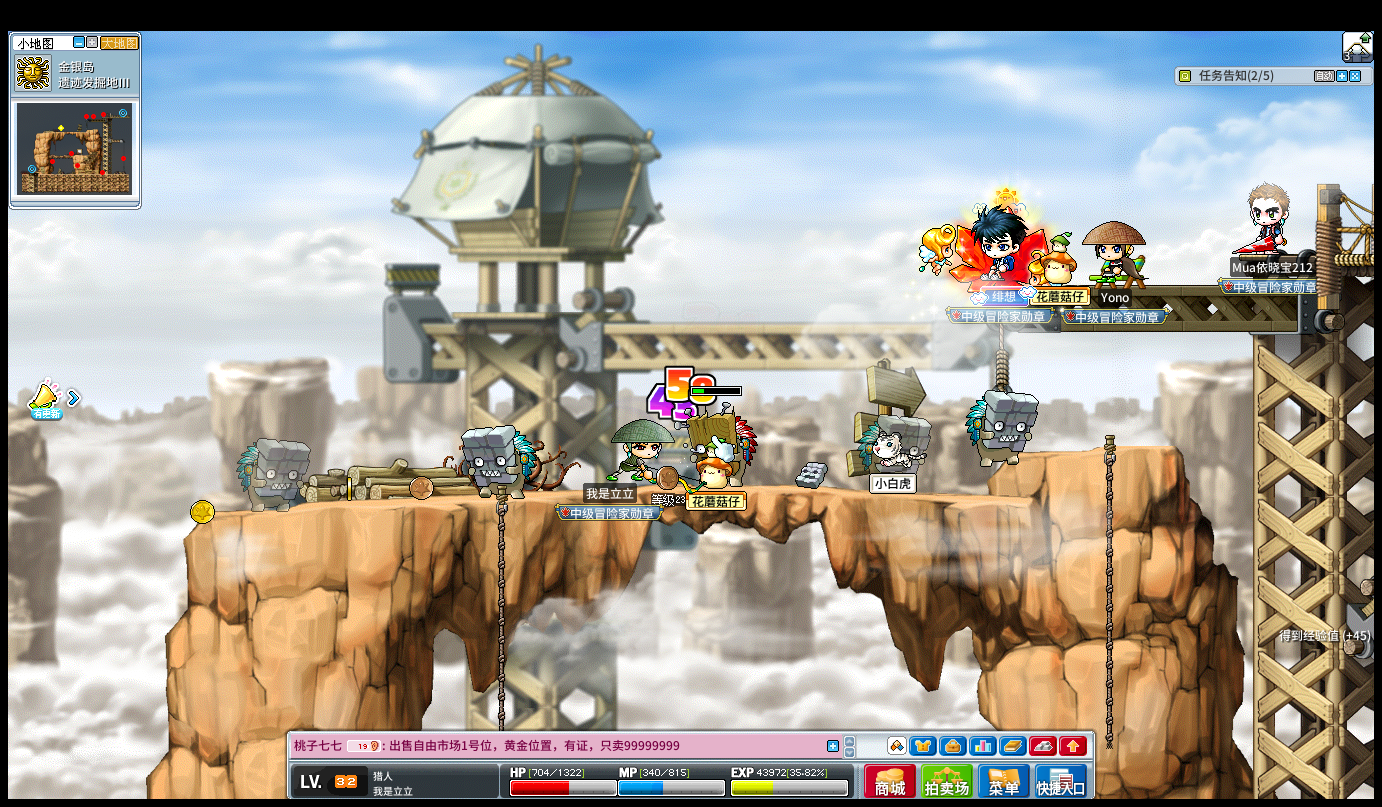floor: (196, 482, 1010, 513), (216, 481, 1053, 503), (1021, 442, 1179, 457)
monster: (677, 401, 758, 486), (856, 412, 933, 495), (965, 390, 1040, 469), (235, 437, 311, 512), (461, 424, 535, 500)
rope: (1101, 431, 1117, 807), (1101, 431, 1116, 683), (494, 486, 507, 684)
